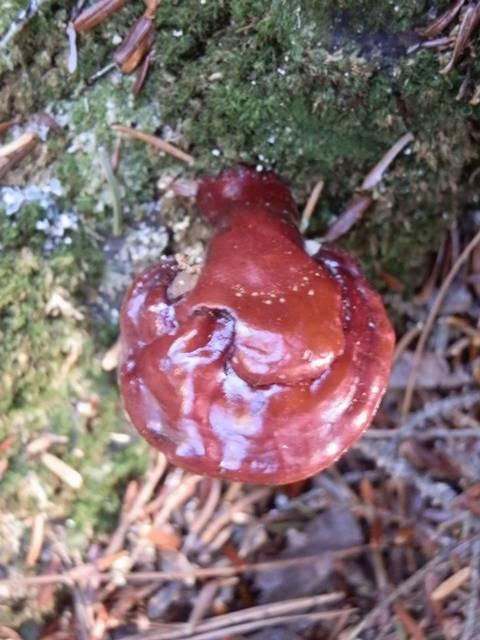poisonous_mushroom: (114, 162, 397, 487)
